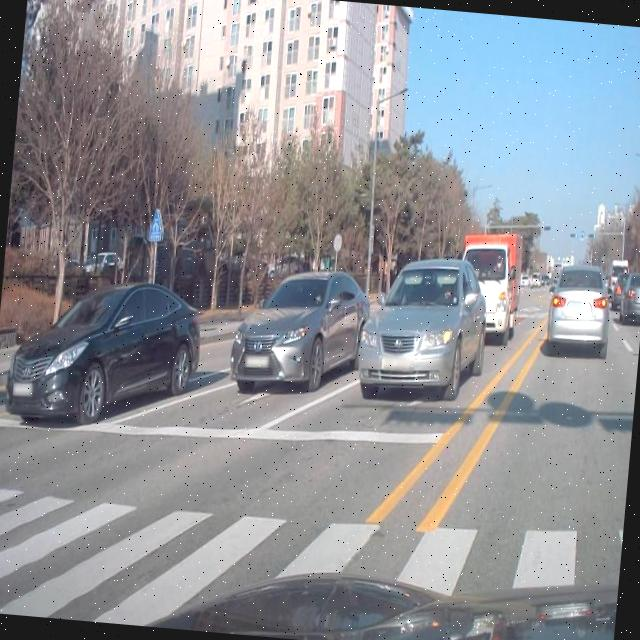crosswalk: (0, 486, 621, 640)
